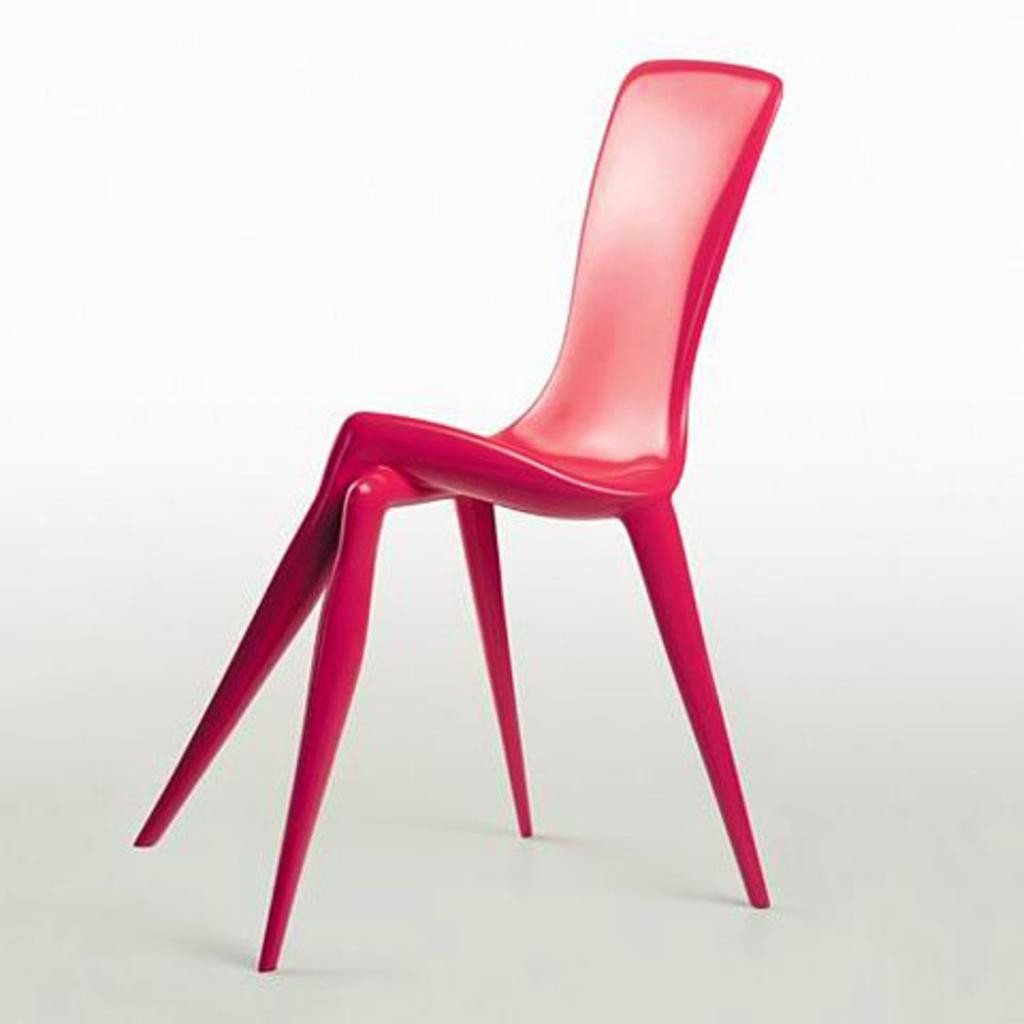Chair: (124, 0, 834, 979)
